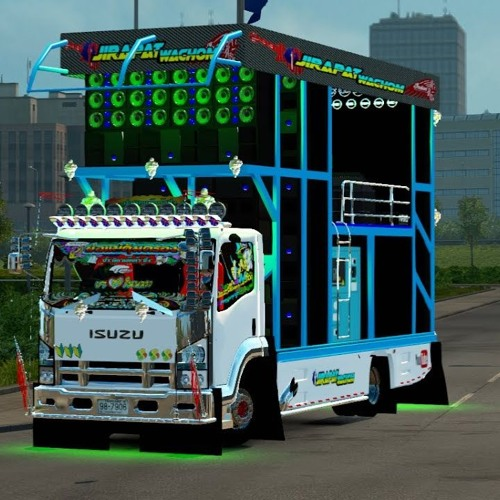truck: (37, 27, 435, 445)
